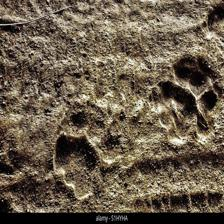cat: (148, 59, 221, 148)
